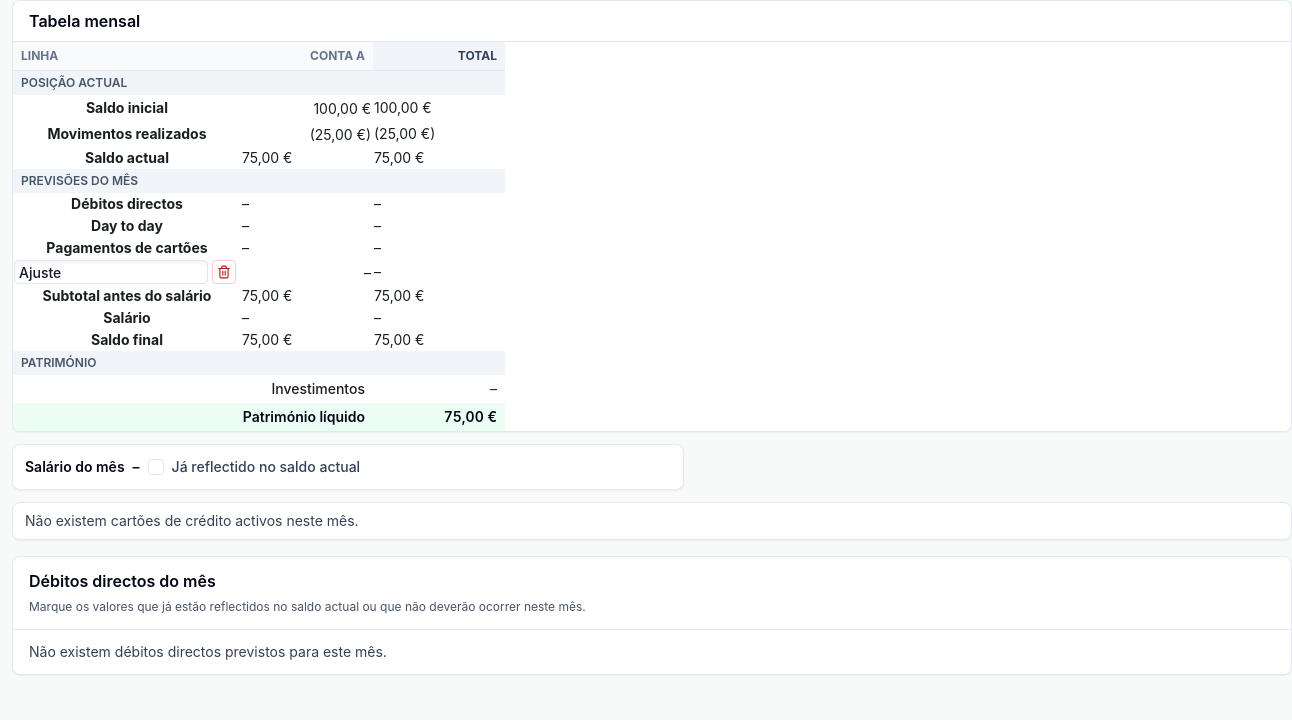
Test: MonthlyBudgetTable › shows an autosave error state
Replace the text in the field named "Ajuste — Conta A" with "80,00" at [307, 272], box [242, 260, 372, 284]
Wait 650 ms
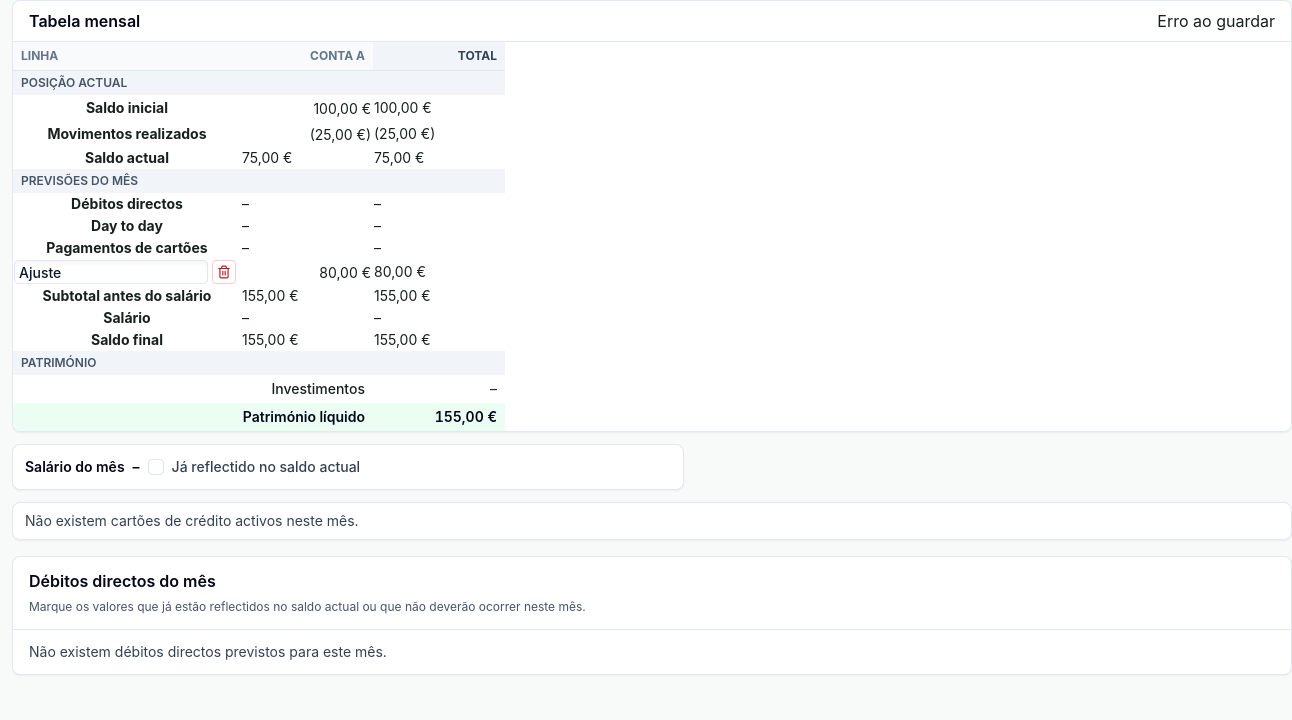
Expected: the text "Erro ao guardar" is shown, [1157, 9, 1275, 33]
